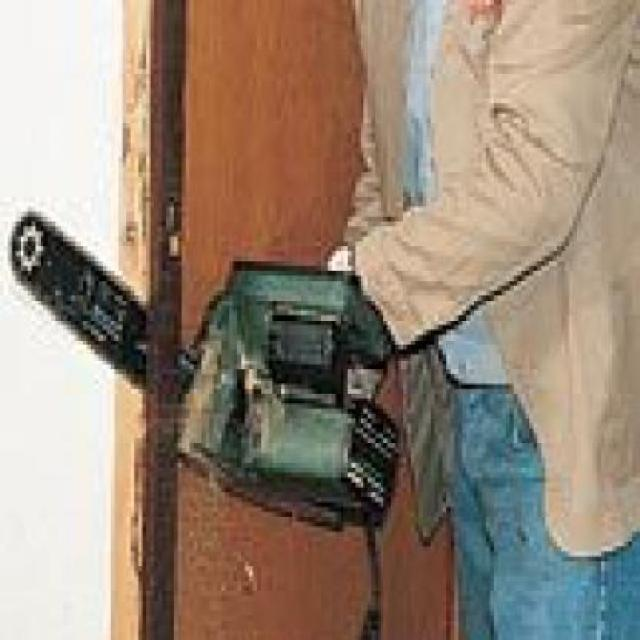Chainsaw: (8, 209, 406, 640)
